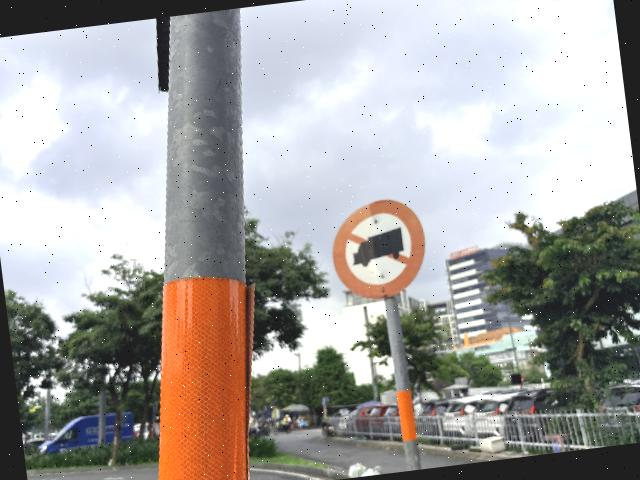cam-xe-tai: (326, 196, 431, 303)
